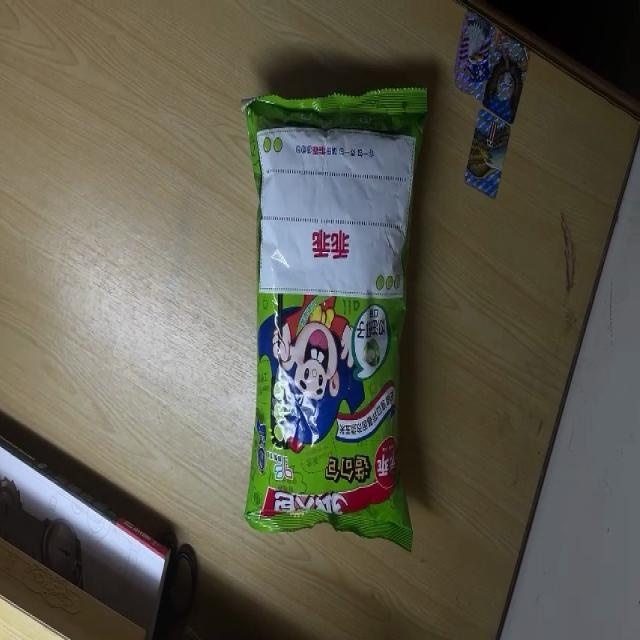Good-Luck: (241, 87, 426, 555)
